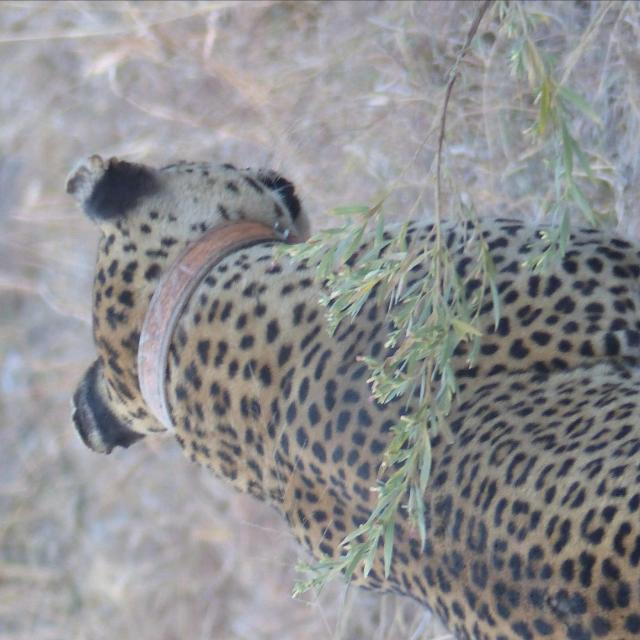Leopard: (4, 54, 525, 640)
